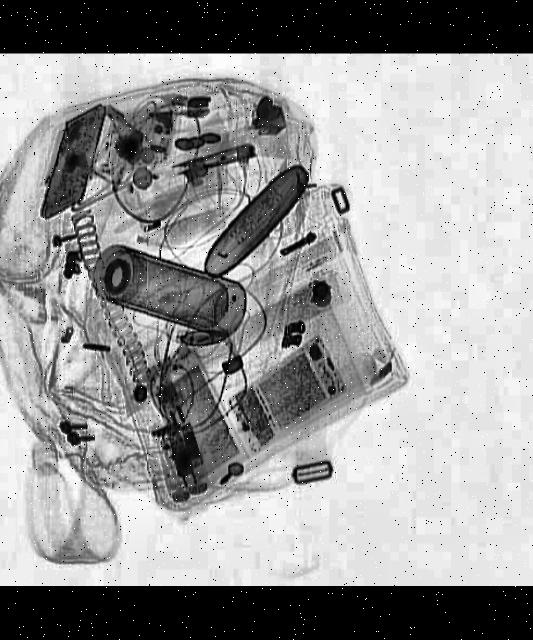Scissors: (168, 144, 255, 181)
